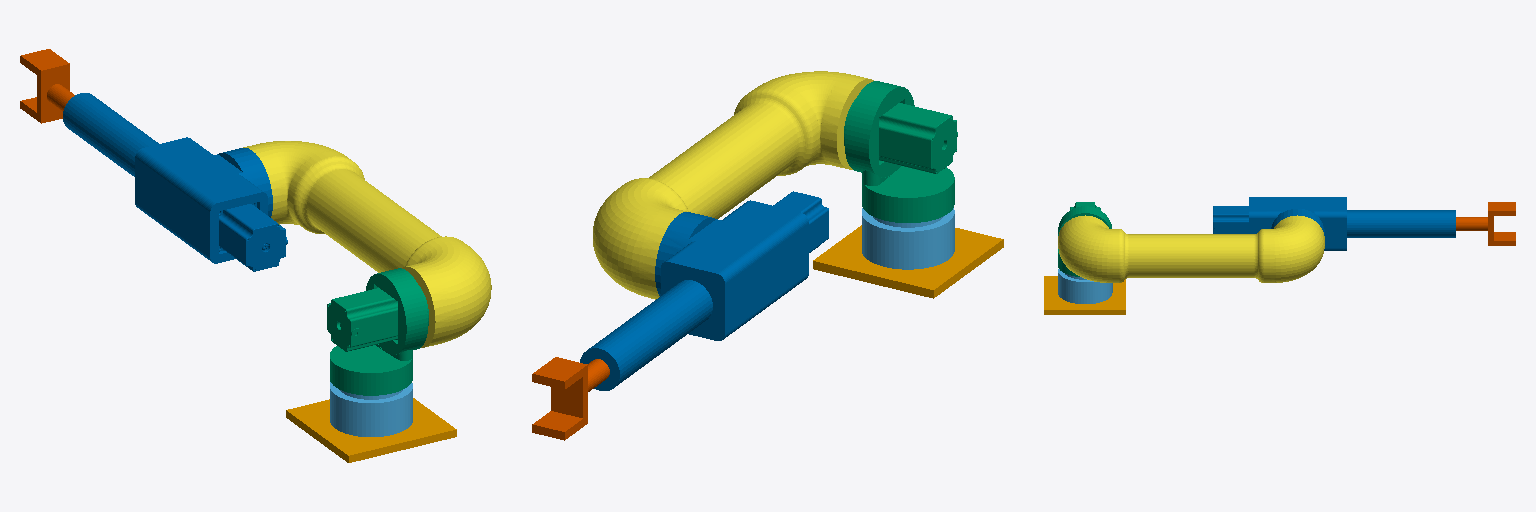
URDF robot description (sentinel):
<?xml version='1.0' encoding='utf-8'?>
<robot name="sentinel">
    <!-- add more codes -->
    <link name="base_link">
        <visual>
        <origin xyz="0.0 0.0 0.005"/>
            <geometry>
                <mesh filename="package://sentinel_description/mesh/base_link.STL"/>
            </geometry>
        </visual>
    </link>
    <link name="link_0">
        <visual>
            <geometry>
                <mesh filename="package://sentinel_description/mesh/link_0.STL"/>
            </geometry>
        </visual>
    </link>
    <link name="link_1">
        <visual>
            <geometry>
                <mesh filename="package://sentinel_description/mesh/link_1.STL"/>
            </geometry>
        </visual>
    </link>
    <link name="link_2">
        <visual>
            <geometry>
                <mesh filename="package://sentinel_description/mesh/link_2.STL"/>
            </geometry>
        </visual>
    </link>
    <link name="link_3">
        <visual>
            <origin rpy="3.14159265359 0.0 1.57079632679"/>
            <geometry>
                <mesh filename="package://sentinel_description/mesh/link_3.STL"/>
            </geometry>
        </visual>
    </link>
    <link name="gripper">
        <visual>
            <origin rpy="-1.57079632679 0.0 0.0"/>
            <geometry>
                <mesh filename="package://sentinel_description/mesh/gripper.STL"/>
            </geometry>
        </visual>
    </link>

    <joint name="base_to_link_0" type="fixed">
       <parent link="base_link"/>
       <child link="link_0"/>
       <origin xyz="0.0 0.0 0.035"/>
     </joint>

     <joint name="link_0_to_1" type="revolute">
       <parent link="link_0"/>
       <child link="link_1"/>
       <origin xyz="0.0 0.0 0.045"/>
       <axis xyz="0.0 0.0 1.0"/>
       <limit lower="-3" upper="3" effort="30.0" velocity="1.0"/>
     </joint>

     <joint name="link_1_to_2" type="revolute">
       <parent link="link_1"/>
       <child link="link_2"/>
       <origin xyz="0.13 0.0 0.065" rpy="0.0 -1.57079632679 0.0"/>
       <axis xyz="0.0 0.0 -1.0"/>
       <limit lower="0" upper="3" effort="30.0" velocity="1.0"/>
     </joint>

     <joint name="link_2_to_3" type="revolute">
       <parent link="link_2"/>
       <child link="link_3"/>
       <origin xyz="0.0 0.39 0.14"/>
       <axis xyz="0.0 0.0 -1.0"/>
       <limit lower="-2" upper="2" effort="30.0" velocity="1.0"/>
     </joint>

     <joint name="link_3_to_gripper" type="fixed">
       <parent link="link_3"/>
       <child link="gripper"/>
       <origin xyz="0.0 0.36 0.0"/>
     </joint>

</robot>

--- What the picture shows (computed from the rendered views, not written in the file) ---
The picture shows the robot from 3 angles, left to right: view 1: azimuth 30°, elevation 25°; view 2: azimuth 150°, elevation 25°; view 3: azimuth 270°, elevation 25°; orthographic projection.
Robot: sentinel — 6 links, 5 joints (3 revolute, 2 fixed); root link base_link; default pose: every joint at zero.
Visible links, largest first — view 1: link_2, link_3, link_1, base_link, link_0, gripper; view 2: link_2, link_3, link_1, base_link, link_0, gripper; view 3: link_2, link_3, base_link, gripper, link_0, link_1.
Link boxes in pixels (x1,y1,x2,y2): link_2: (243,141,491,347); link_3: (63,93,287,271); link_1: (327,268,428,395); base_link: (286,398,456,462); link_0: (330,382,412,436); gripper: (20,49,74,123); link_2: (593,71,873,299); link_3: (580,191,828,390); link_1: (844,81,957,222); base_link: (813,225,1003,298); link_0: (862,208,954,269); gripper: (532,357,609,440); link_2: (1058,215,1324,282); link_3: (1213,197,1455,250); base_link: (1044,276,1125,314); gripper: (1456,202,1515,245); link_0: (1058,269,1112,303); link_1: (1058,202,1111,276).
Size in the robot's own frame: 0.255 by 0.865 by 0.195 metres.
6 mesh visuals loaded from 6 distinct referenced files (6 binary STL).